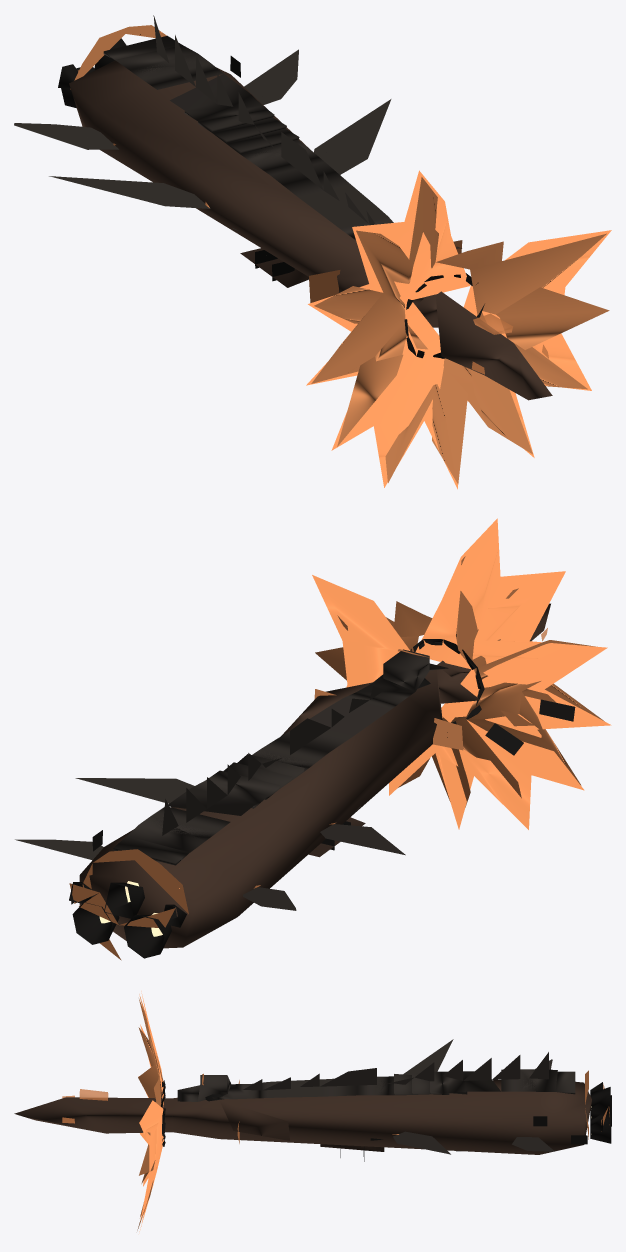
File: kryza-heliotropi-hawk-44-lod2.glb
3 views of the same model, one above another, from view 1: azimuth 30°, elevation 25°; view 2: azimuth 150°, elevation 25°; view 3: azimuth 270°, elevation 25° (orthographic). The views are drawn at different scales.
Size of the model in its own units: 22.21 by 20.44 by 49.98.
